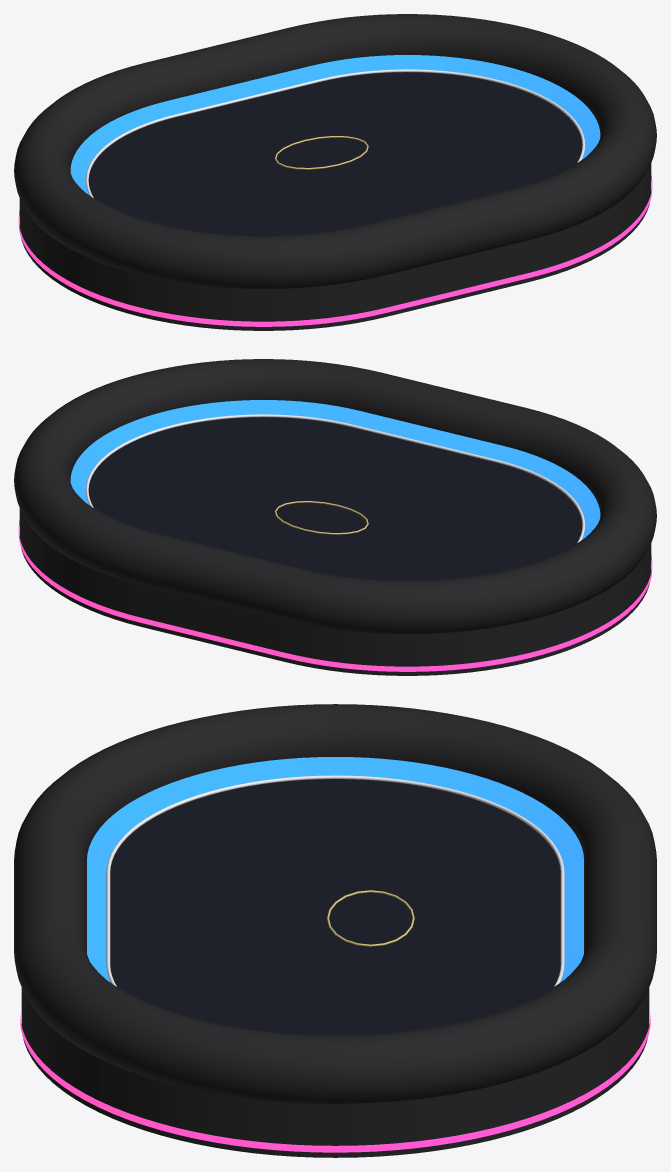
File: ScreenTable.glb
3 views of the same model, one above another, from view 1: azimuth 30°, elevation 25°; view 2: azimuth 150°, elevation 25°; view 3: azimuth 270°, elevation 25° (orthographic). The views are drawn at different scales.
Visible parts, largest first — view 1: Rail, Felt, Skirt, LEDStrip, Underglow, ChromeTrim, PitEmitterRing; view 2: Rail, Felt, Skirt, LEDStrip, Underglow, ChromeTrim, PitEmitterRing; view 3: Rail, Felt, Skirt, LEDStrip, Underglow, ChromeTrim.
Boxes of the visible parts, x1,y1,x2,y2 form: Rail: (14, 14, 656, 288); Felt: (88, 72, 582, 235); Skirt: (19, 163, 651, 330); LEDStrip: (70, 55, 600, 194); Underglow: (18, 175, 652, 326); ChromeTrim: (85, 69, 585, 197); PitEmitterRing: (275, 136, 368, 169); Rail: (14, 359, 656, 633); Felt: (88, 417, 582, 580); Skirt: (19, 508, 651, 675); LEDStrip: (70, 400, 600, 539); Underglow: (18, 520, 652, 671); ChromeTrim: (85, 414, 585, 542); PitEmitterRing: (274, 501, 368, 534); Rail: (14, 704, 656, 1103); Felt: (110, 779, 560, 1035); Skirt: (21, 988, 649, 1157); LEDStrip: (87, 757, 583, 982); Underglow: (20, 1015, 650, 1152); ChromeTrim: (106, 775, 564, 986).
Bounding box in the file's own units: 40 × 5.5 × 30.
